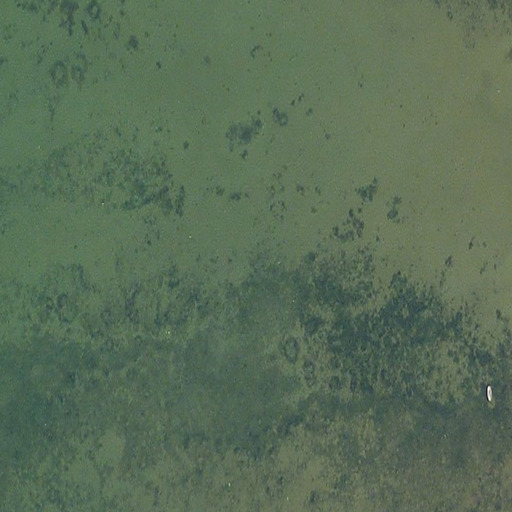ship: (486, 384, 494, 404)
